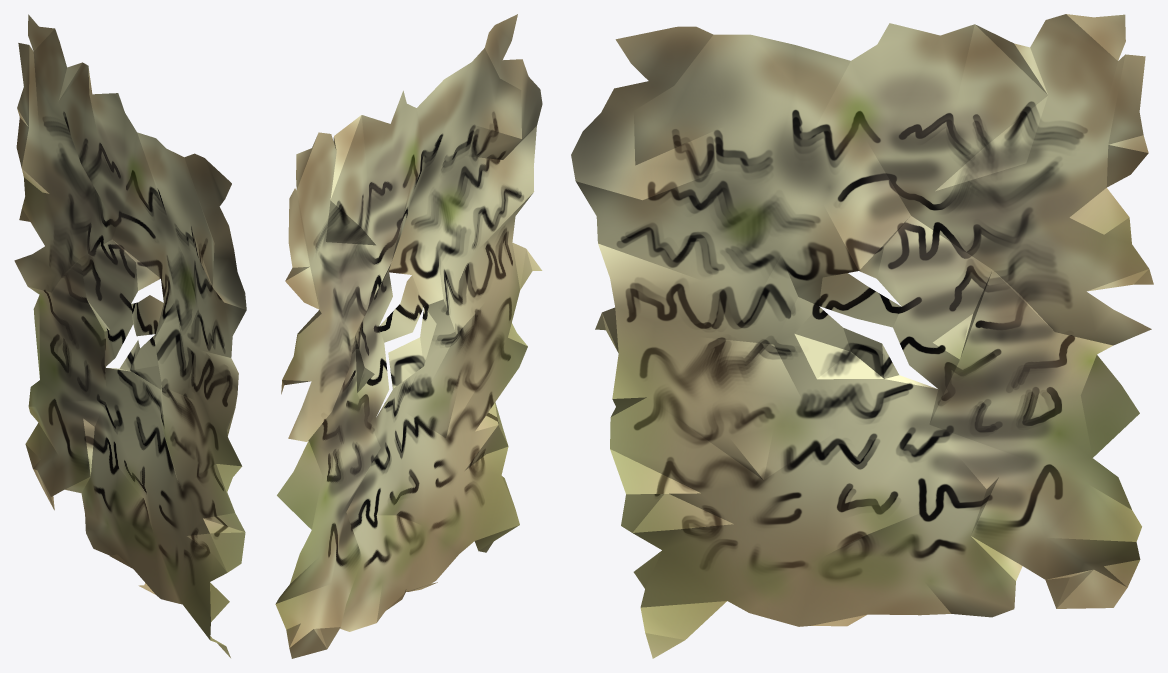
Rendered from Page.fbx.
3 renders of one model, left to right at view 1: azimuth 30°, elevation 25°; view 2: azimuth 150°, elevation 25°; view 3: azimuth 270°, elevation 25°, orthographic. The views are drawn at different scales.
Parts seen in each view (by area): view 1: Plane; view 2: Plane; view 3: Plane.
Boxes of the visible parts, <box> form: Plane: <box>14,14,246,657</box>; Plane: <box>275,14,542,658</box>; Plane: <box>571,14,1153,658</box>.
Bounding box in the file's own units: 5.33 × 64.34 × 53.23.
Materials: 1 (1 with a texture image).
